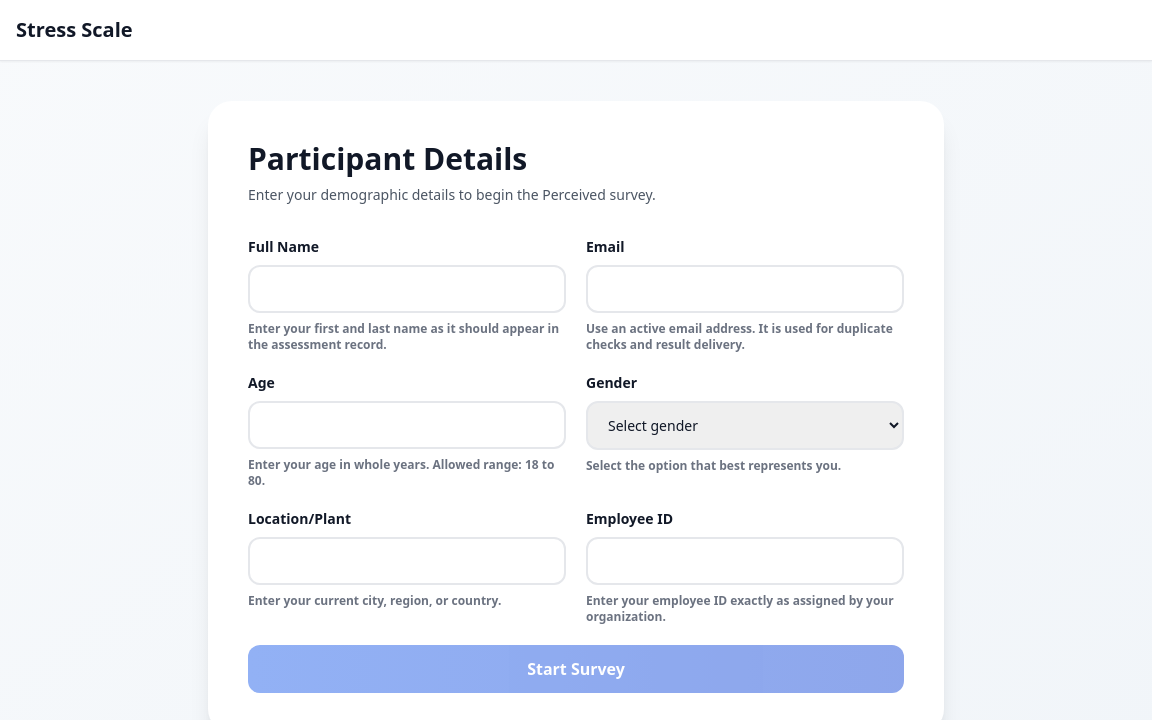
Test: AssessmentPage › shows live validation for invalid full name input
Type "1234" into the field labelled "Full Name".
click(407, 289); type("1234")  # box x1=248 y1=265 x2=566 y2=313
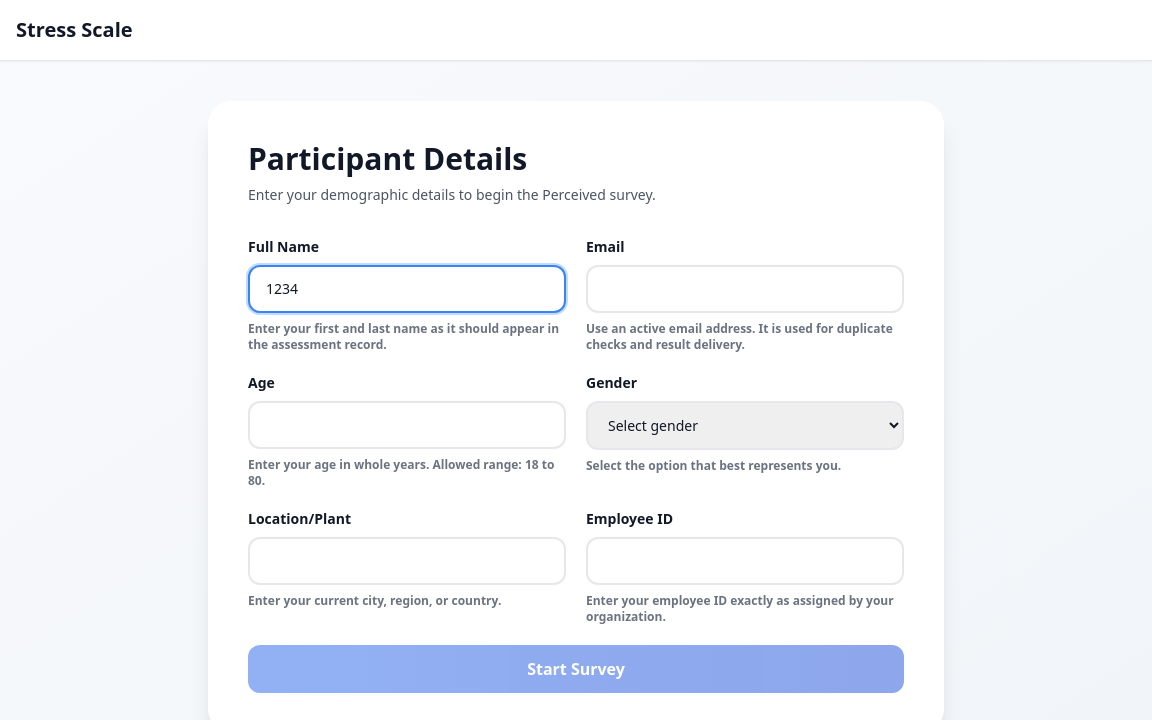
Press Tab
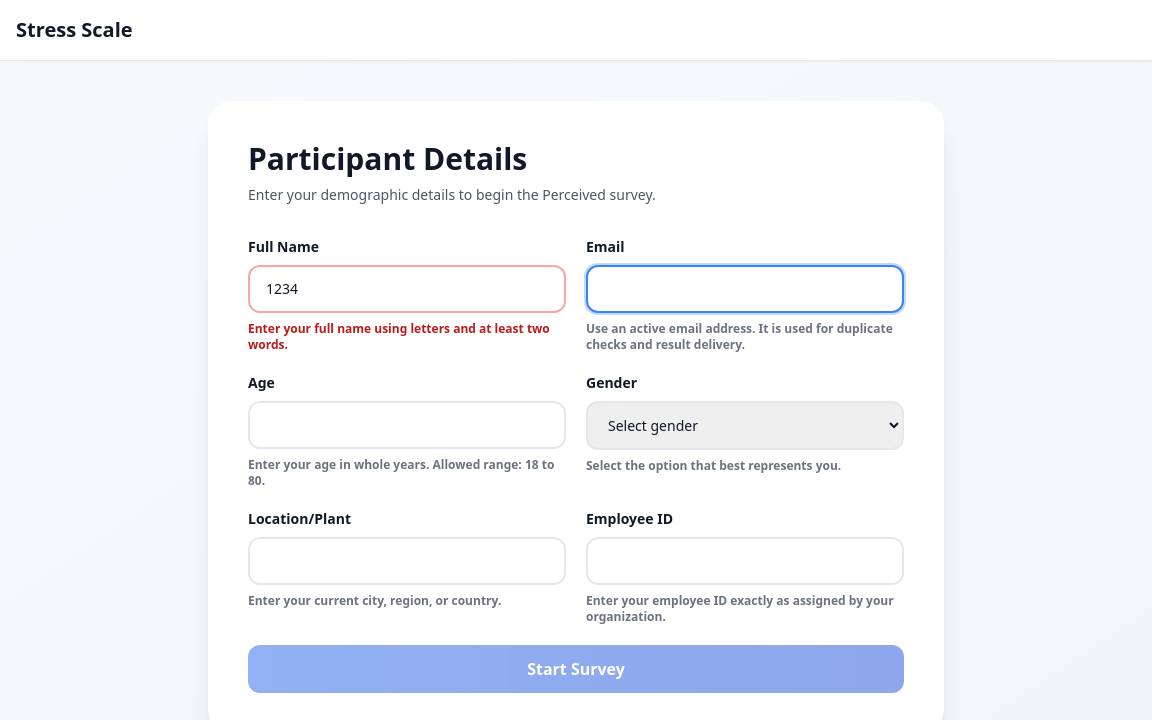
Expected: the button "Start Survey" is disabled, x1=248 y1=645 x2=904 y2=693
Expected: the text "Enter your full name using letters and at least two words." is shown, x1=248 y1=321 x2=566 y2=353
